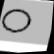no answer: (0, 4, 34, 36)
